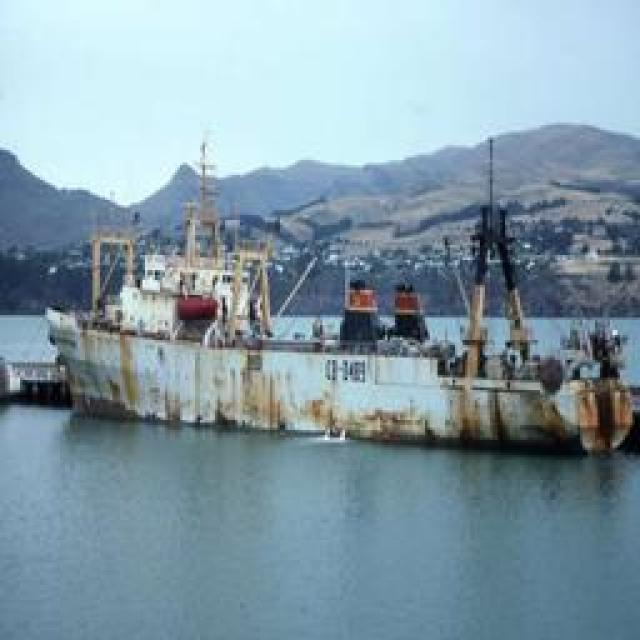ship2: (44, 134, 634, 458)
